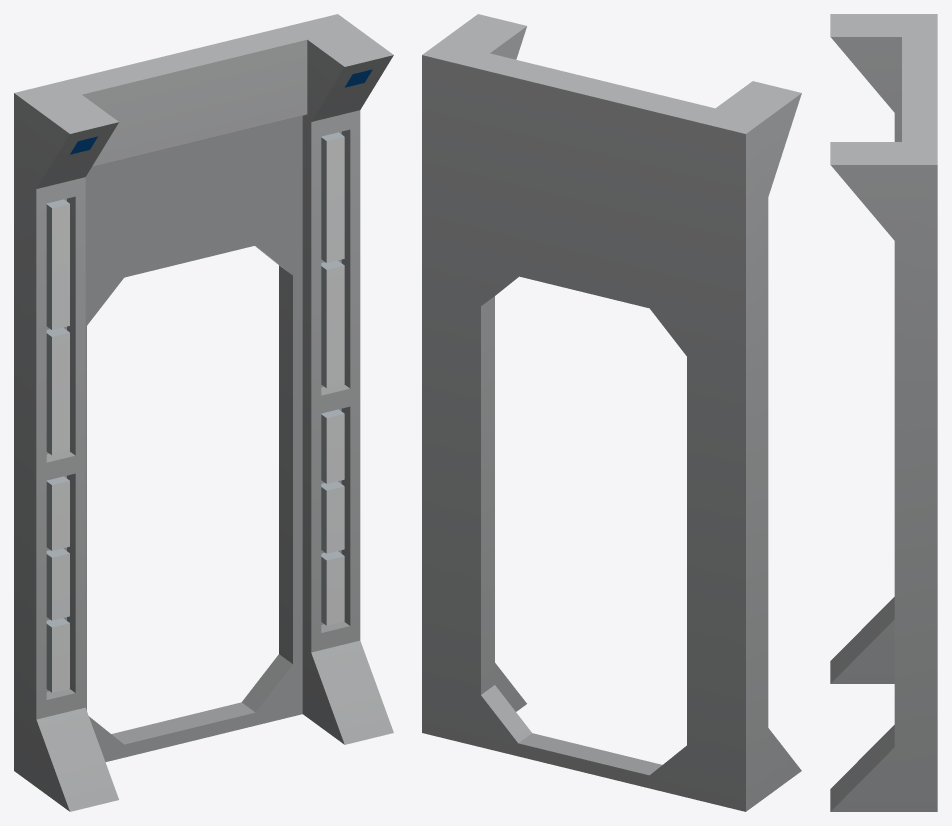
Rendered from Wall_type_A_051.fbx.
3 views of the same model, side by side, from view 1: azimuth 30°, elevation 25°; view 2: azimuth 150°, elevation 25°; view 3: azimuth 270°, elevation 25° (orthographic). The views are drawn at different scales.
Parts seen in each view (by area): view 1: Wall_type_A_051; view 2: Wall_type_A_051; view 3: Wall_type_A_051.
Boxes of the visible parts, x1,y1,x2,y2 form: Wall_type_A_051: (14,14,393,811); Wall_type_A_051: (422,14,801,811); Wall_type_A_051: (830,14,937,811).
Size of the model in its own units: 200 by 60 by 400.
